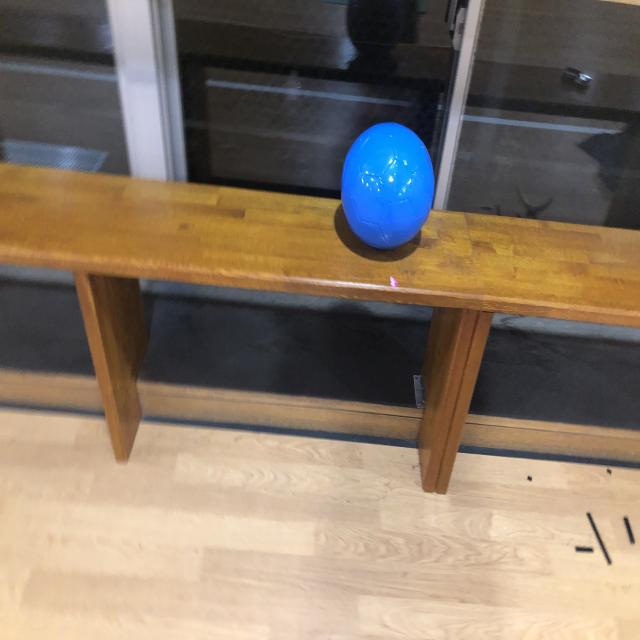blue_ball: (338, 121, 432, 253)
